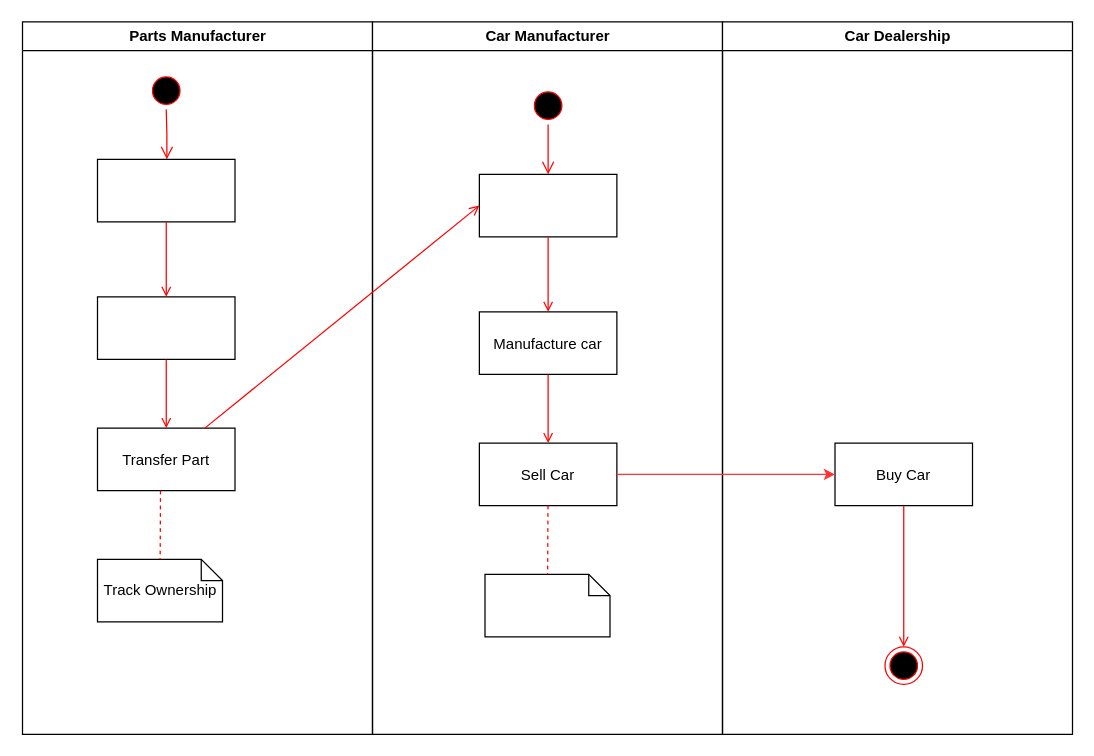
Image size: 1094x756. Some labels were removed from this diagram. The shapes that lost their labels are listed below. From the top down, each one's centre as x and y in pixels, then its label:
At (165,190): "Manufacture Part".
At (547,205): "Receive Part".
At (165,327): "Process Part".
At (547,605): "critical section".
